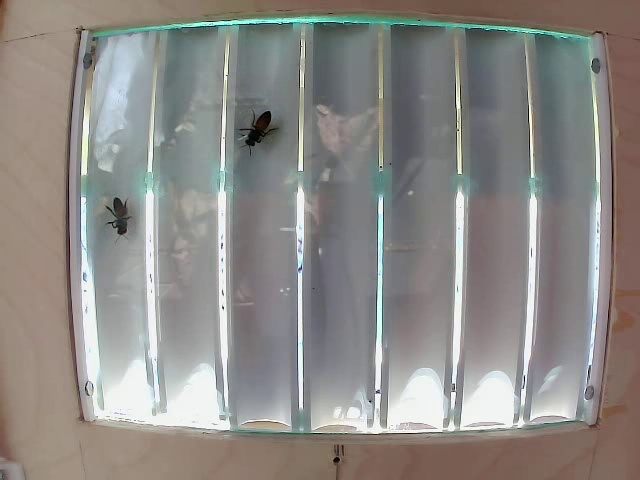bee: (104, 190, 149, 263), (238, 104, 282, 162)
